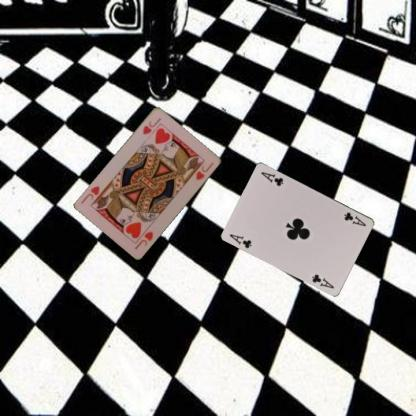Ac: (342, 209, 368, 228), (227, 231, 253, 250)
Jh: (140, 114, 162, 136), (132, 229, 154, 251)
